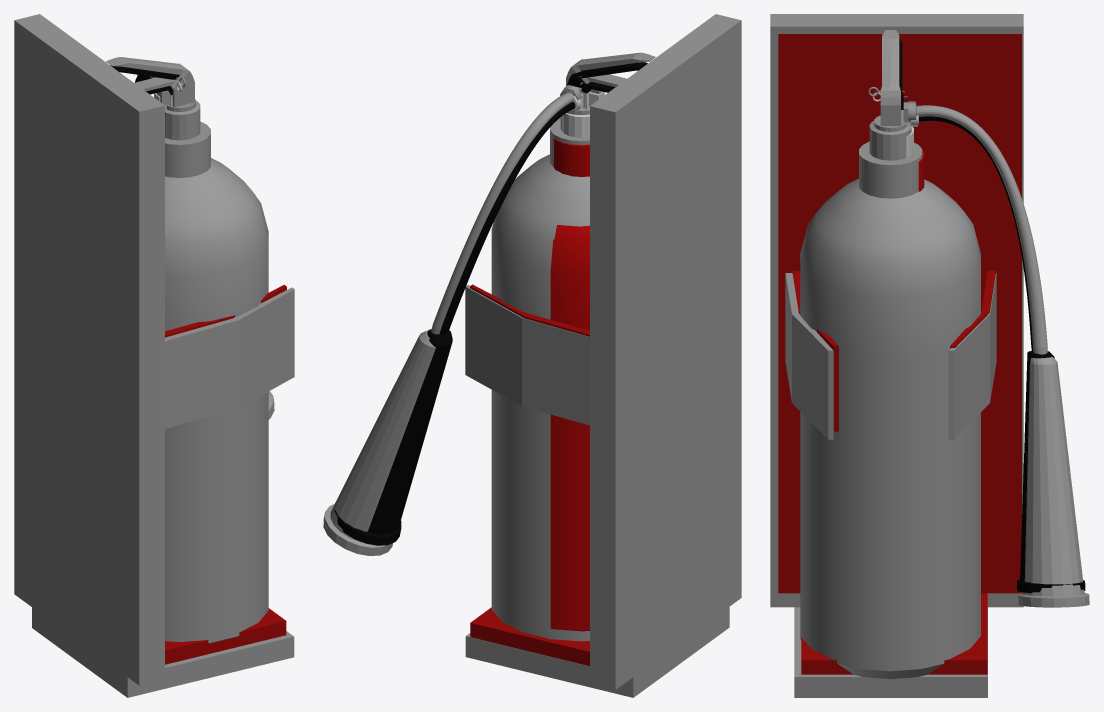
Rendered from firedistinguisher.FBX.
The picture shows the model from 3 angles, left to right: view 1: azimuth 30°, elevation 25°; view 2: azimuth 150°, elevation 25°; view 3: azimuth 270°, elevation 25°; orthographic projection.
Visible parts, largest first — view 1: Box002, Box001; view 2: Box002, Firedistingu, Box001; view 3: Box002, Box001.
Boxes of the visible parts, x1,y1,x2,y2 form: Box002: (14, 14, 294, 697); Box001: (165, 284, 286, 664); Box002: (323, 14, 741, 697); Firedistingu: (550, 138, 589, 631); Box001: (470, 284, 589, 666); Box002: (770, 14, 1089, 697); Box001: (778, 34, 1021, 674).
Size of the model in its own units: 37.88 by 79.49 by 38.21.
5 materials, 1 textured.
